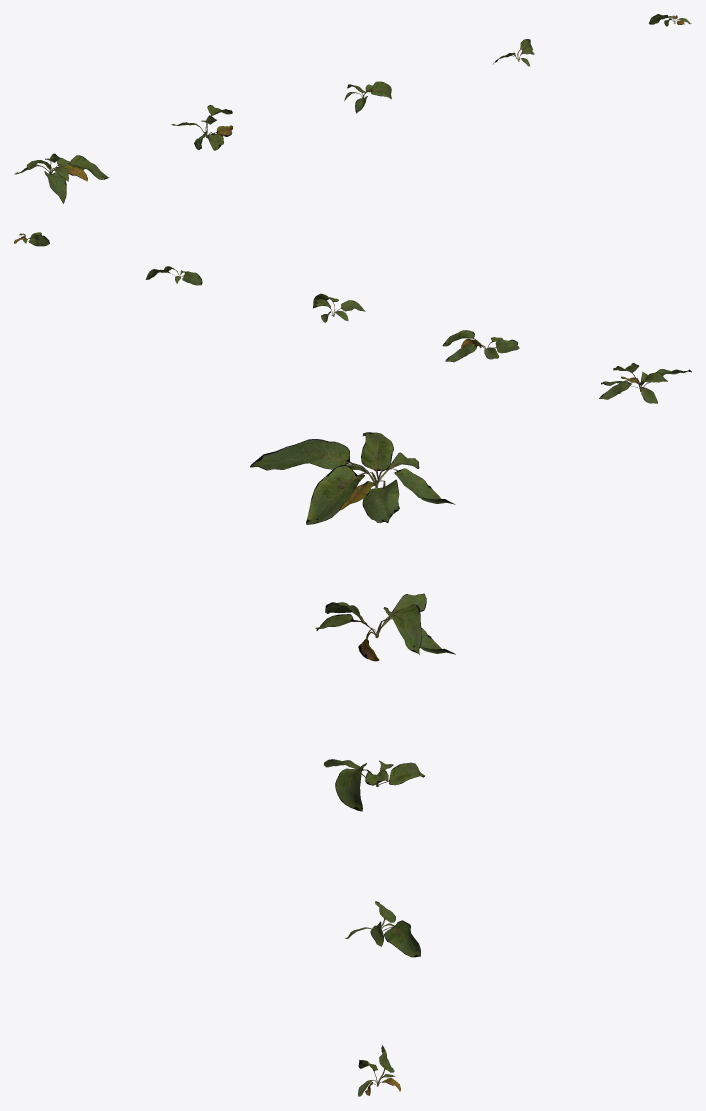
The model's file is weed_plant_02.glb.
3 views of the same model, one above another, from view 1: azimuth 30°, elevation 25°; view 2: azimuth 150°, elevation 25°; view 3: azimuth 270°, elevation 25° (orthographic). The views are drawn at different scales.
Parts seen in each view (by area): view 1: weed_plant_02_a_LOD0, weed_plant_02_b_LOD0, weed_plant_02_c_LOD0, weed_plant_02_d_LOD0; view 2: weed_plant_02_a_LOD0, weed_plant_02_b_LOD0, weed_plant_02_c_LOD0, weed_plant_02_d_LOD0, weed_plant_02_e_LOD0; view 3: weed_plant_02_a_LOD0, weed_plant_02_b_LOD0, weed_plant_02_c_LOD0, weed_plant_02_d_LOD0.
Boxes of the visible parts, x1=… form: weed_plant_02_a_LOD0: x1=14, y1=153, x2=109, y2=203; weed_plant_02_b_LOD0: x1=171, y1=105, x2=232, y2=150; weed_plant_02_c_LOD0: x1=344, y1=81, x2=391, y2=113; weed_plant_02_d_LOD0: x1=493, y1=39, x2=534, y2=66; weed_plant_02_a_LOD0: x1=599, y1=363, x2=691, y2=403; weed_plant_02_b_LOD0: x1=442, y1=330, x2=519, y2=362; weed_plant_02_c_LOD0: x1=313, y1=293, x2=365, y2=322; weed_plant_02_d_LOD0: x1=145, y1=266, x2=202, y2=285; weed_plant_02_e_LOD0: x1=14, y1=232, x2=49, y2=246; weed_plant_02_a_LOD0: x1=250, y1=432, x2=455, y2=524; weed_plant_02_b_LOD0: x1=315, y1=593, x2=455, y2=661; weed_plant_02_c_LOD0: x1=324, y1=759, x2=424, y2=811; weed_plant_02_d_LOD0: x1=345, y1=901, x2=420, y2=957.
Bounding box in the file's own units: 2.13 × 0.0751 × 0.2909.
Materials: 1 (1 with a texture image).
